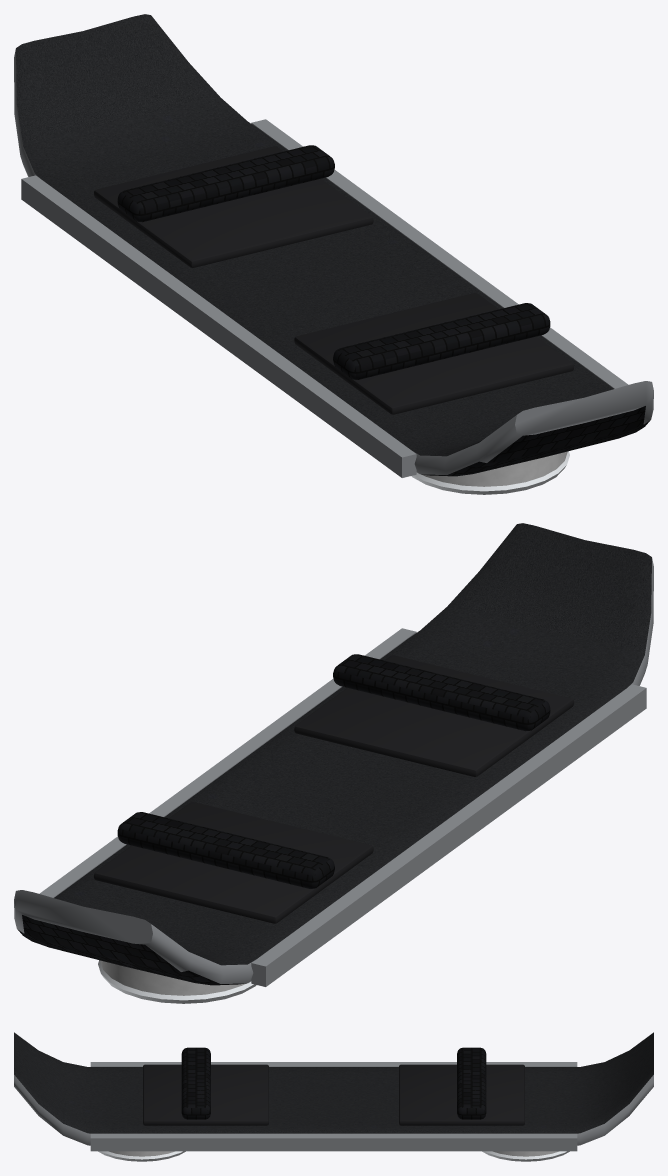
File: board_sport.glb
The picture shows the model from 3 angles, top to bottom: view 1: azimuth 30°, elevation 25°; view 2: azimuth 150°, elevation 25°; view 3: azimuth 270°, elevation 25°; orthographic projection. The views are drawn at different scales.
Visible parts, largest first — view 1: board_sport; view 2: board_sport; view 3: board_sport.
Part boxes in pixels (x1=…): board_sport: x1=14, y1=14, x2=653, y2=494; board_sport: x1=14, y1=523, x2=653, y2=1003; board_sport: x1=14, y1=1032, x2=653, y2=1161.
Size of the model in its own units: 0.372 by 0.2024 by 1.32.
9 materials, 3 textured.
